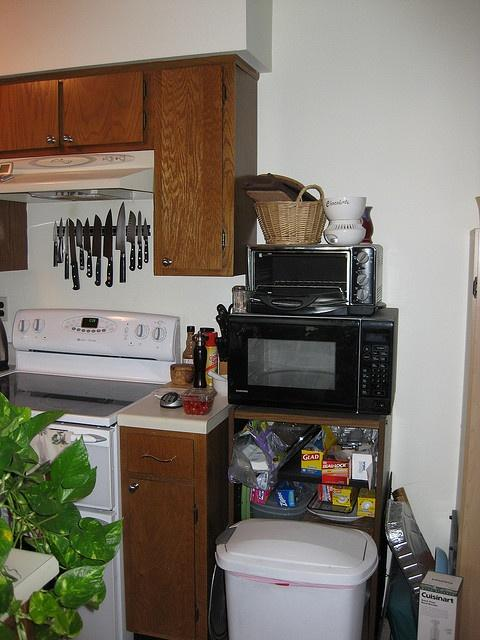Lemari: (117, 426, 209, 639), (152, 51, 235, 276)
